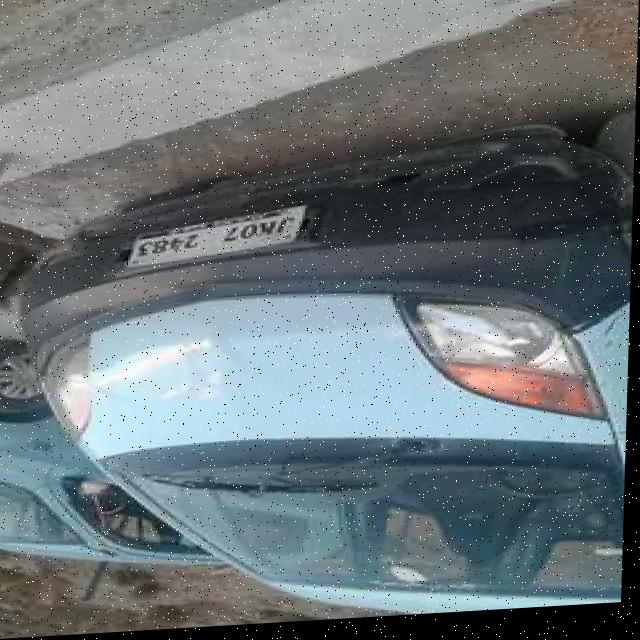plate: (127, 207, 312, 272)
